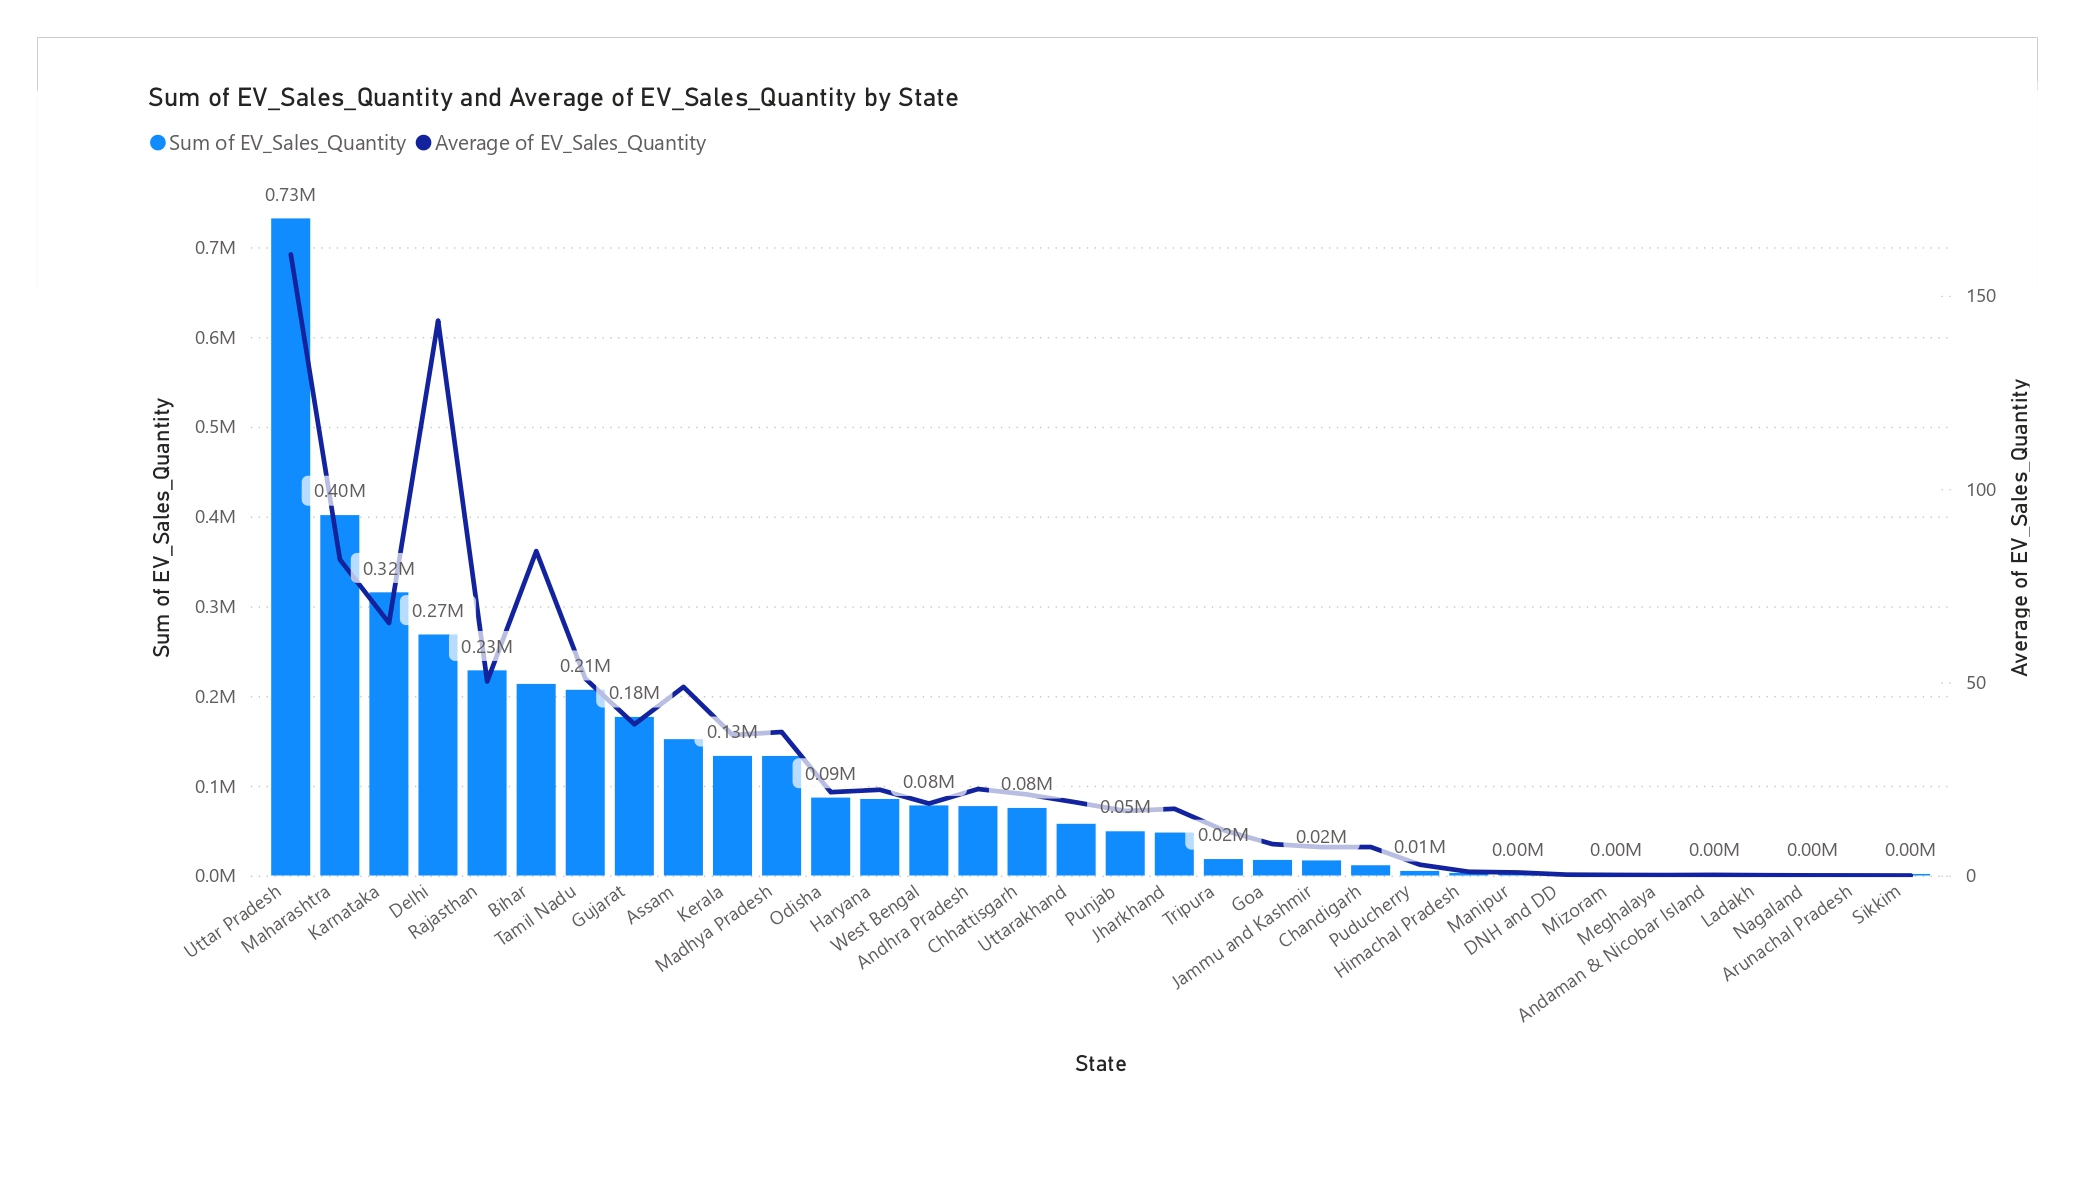

This screenshot's page, from the dashboard's own definition file:
{"tool":"powerbi","page":{"name":"Page 9","canvas":[1280,720],"ordinal":8},"visuals":[{"type":"lineClusteredColumnComboChart","fields":{"Category":["ev.State"],"Y":["Sum(ev.EV_Sales_Quantity)"],"Y2":["Avg(ev.EV_Sales_Quantity)"],"Series":["ev.Vehicle_Category"]},"box":[67.9,34.8,1020.4,535],"z":0}]}

Visuals, with their boxes on the page's 1280x720 design canvas (x1, y1, x2, y2). These are canvas units, not pixel positions in the 2075x1200 screenshot, which may show the page scaled, cropped or inside an application window:
lineClusteredColumnComboChart - ev.State x Sum(ev.EV_Sales_Quantity): BBox(68, 35, 1088, 570)
